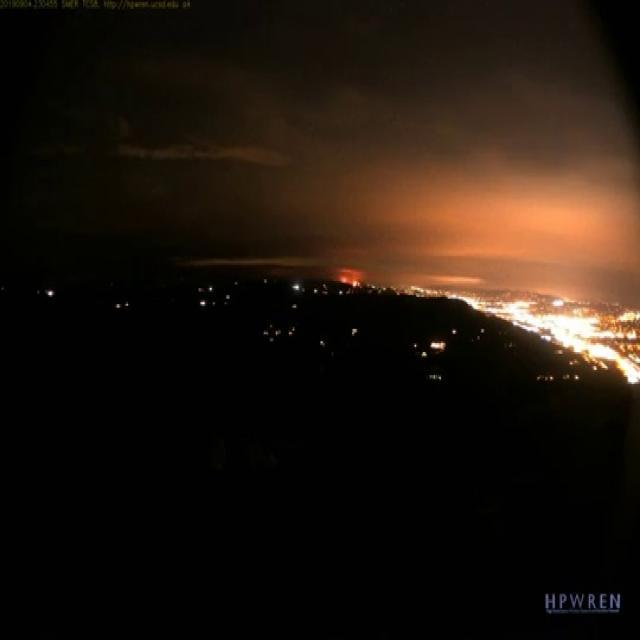Fire: (338, 270, 361, 288)
